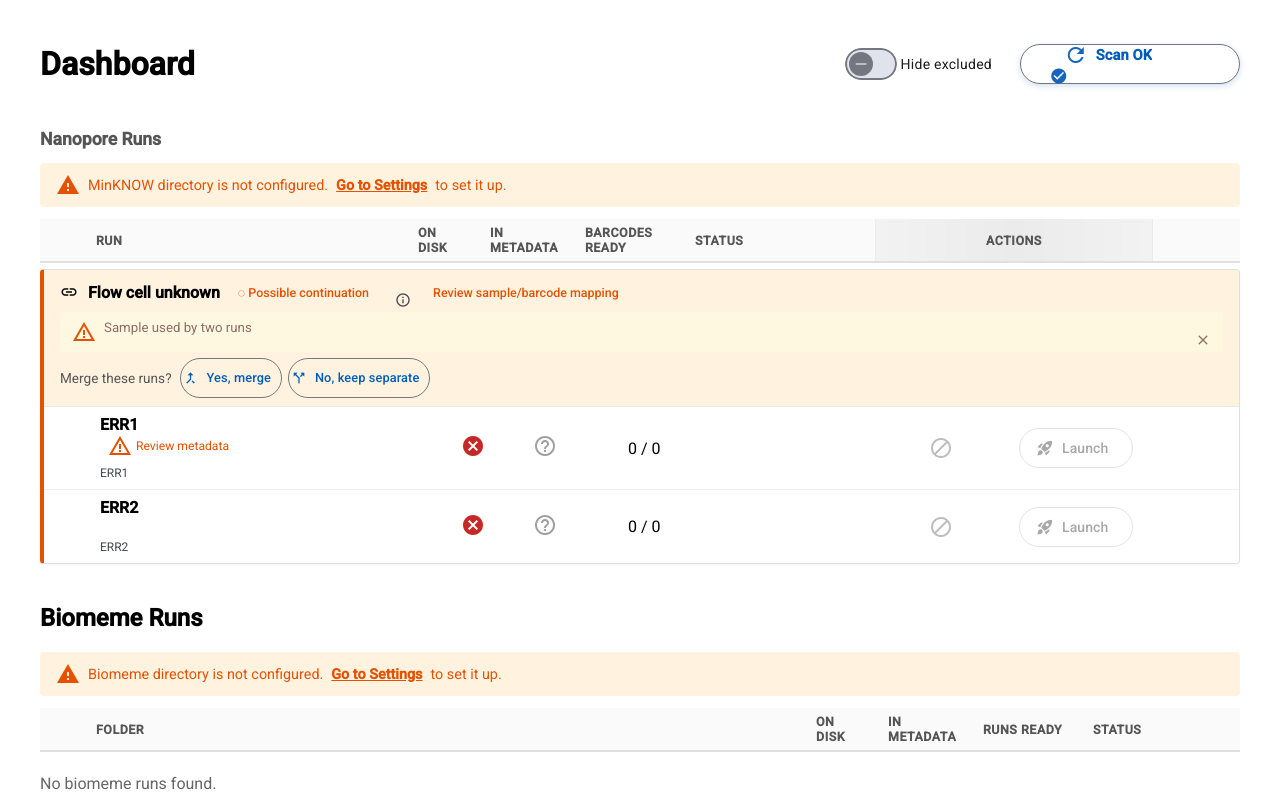
Test: DashboardPageComponent — OnPush rendering › removes a dismissed warning from the view
Click the button with class "warning-dismiss-btn" at (1199, 332), box [1187,320,1211,344]
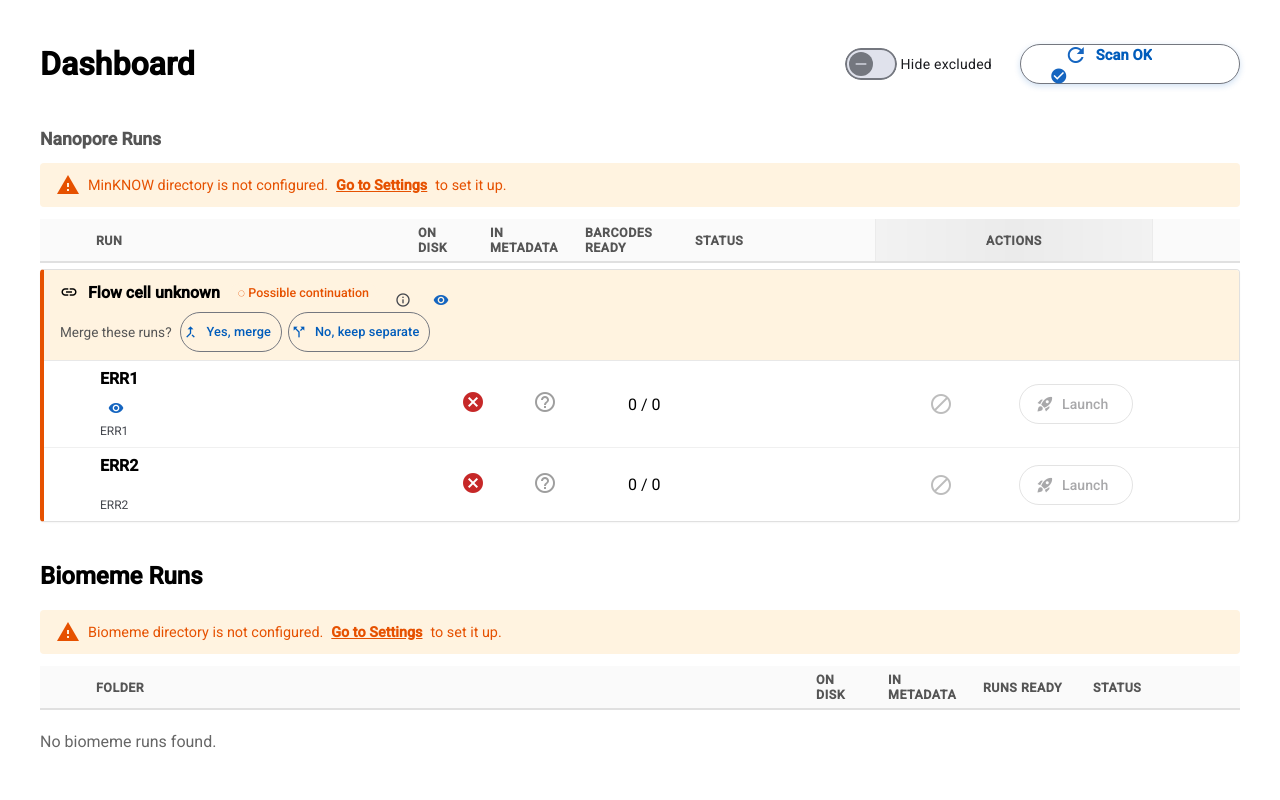
Check: the text "Sample used by two runs" is gone
